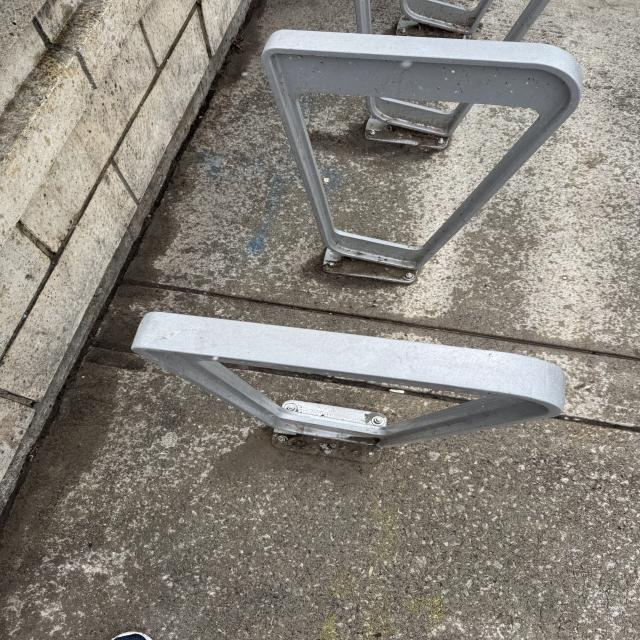Bicycle Rack: (261, 30, 590, 288), (131, 312, 576, 486), (357, 0, 552, 145)
